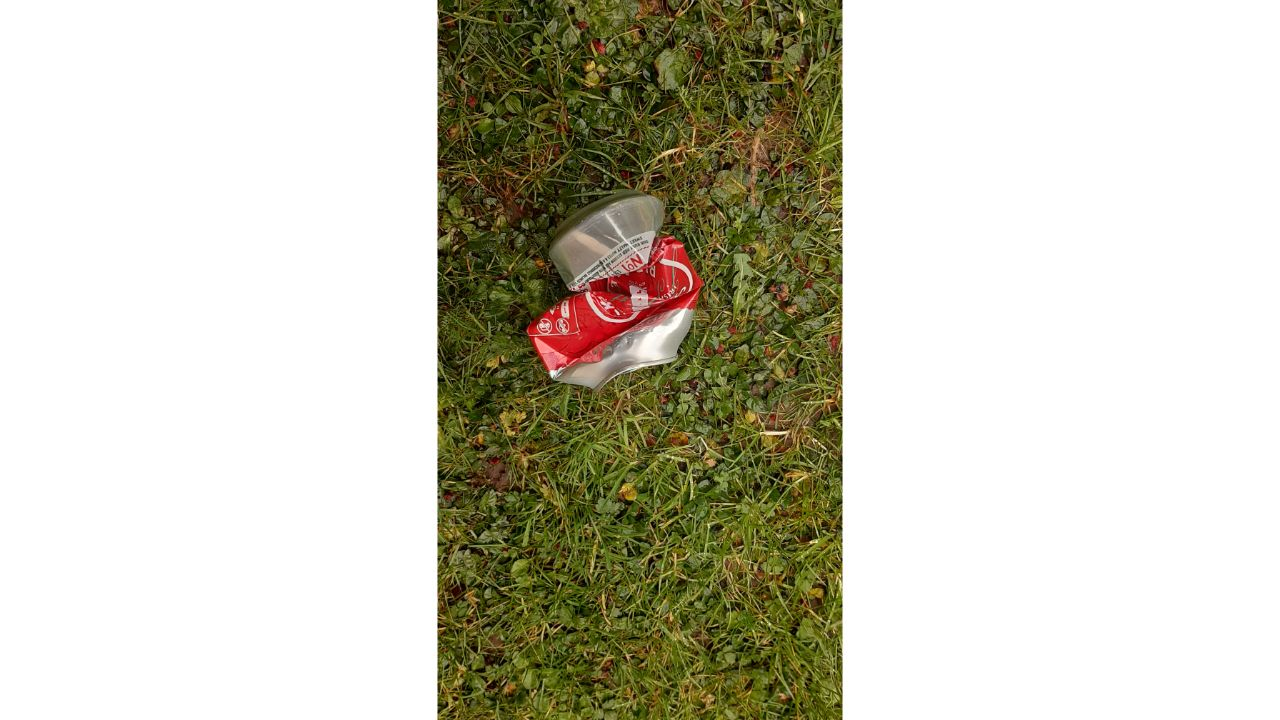Can: (524, 190, 707, 392)
